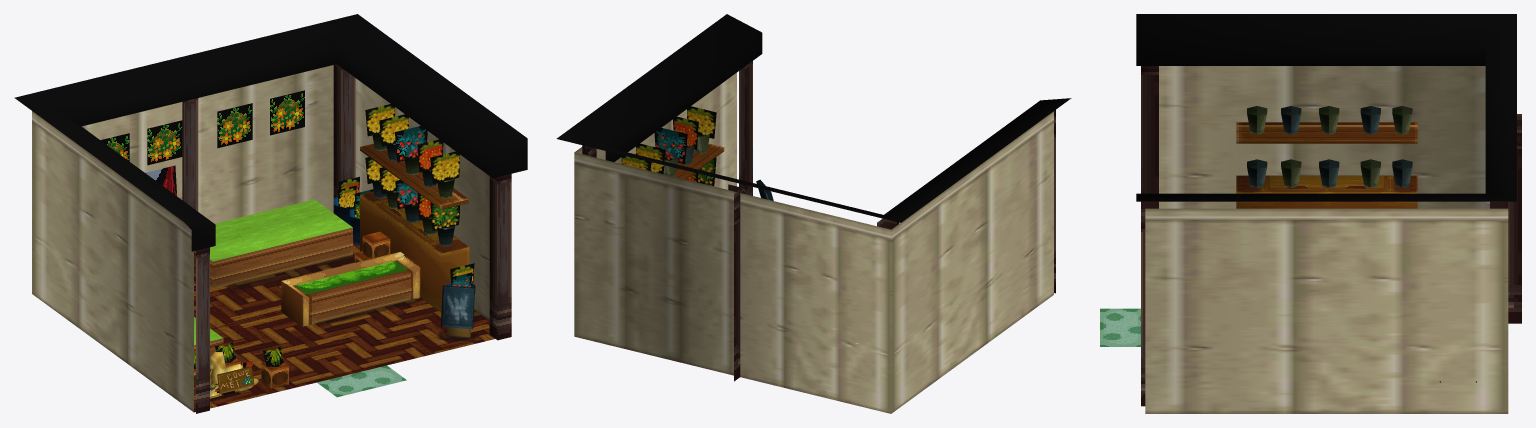
3 renders of one model, left to right at view 1: azimuth 30°, elevation 25°; view 2: azimuth 150°, elevation 25°; view 3: azimuth 270°, elevation 25°, orthographic. The views are drawn at different scales.
Visible parts, largest first — view 1: sh_r_flower; view 2: sh_r_flower; view 3: sh_r_flower.
Boxes of the visible parts, x1,y1,x2,y2 form: sh_r_flower: [14, 14, 527, 413]; sh_r_flower: [556, 14, 1071, 413]; sh_r_flower: [1100, 14, 1521, 413].
Bounding box in the file's own units: 4.9 × 2.68 × 4.65.
Materials: 36 (36 with a texture image).
